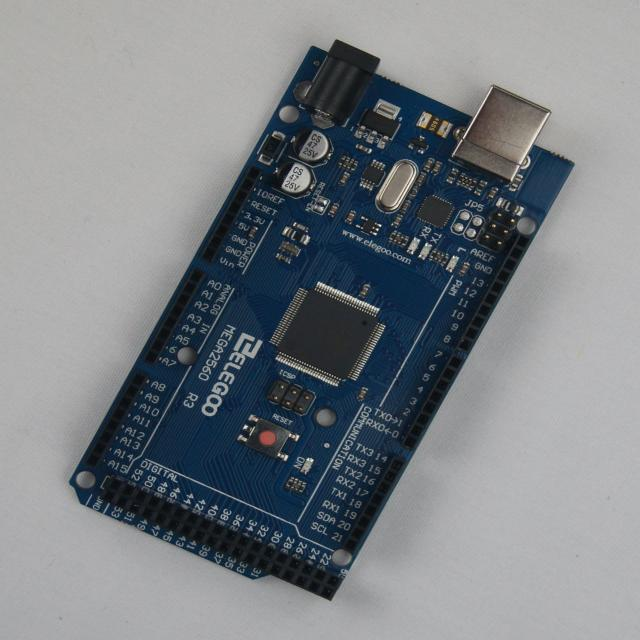Arduino Mega 2560 -Blue-: (72, 41, 573, 600)
